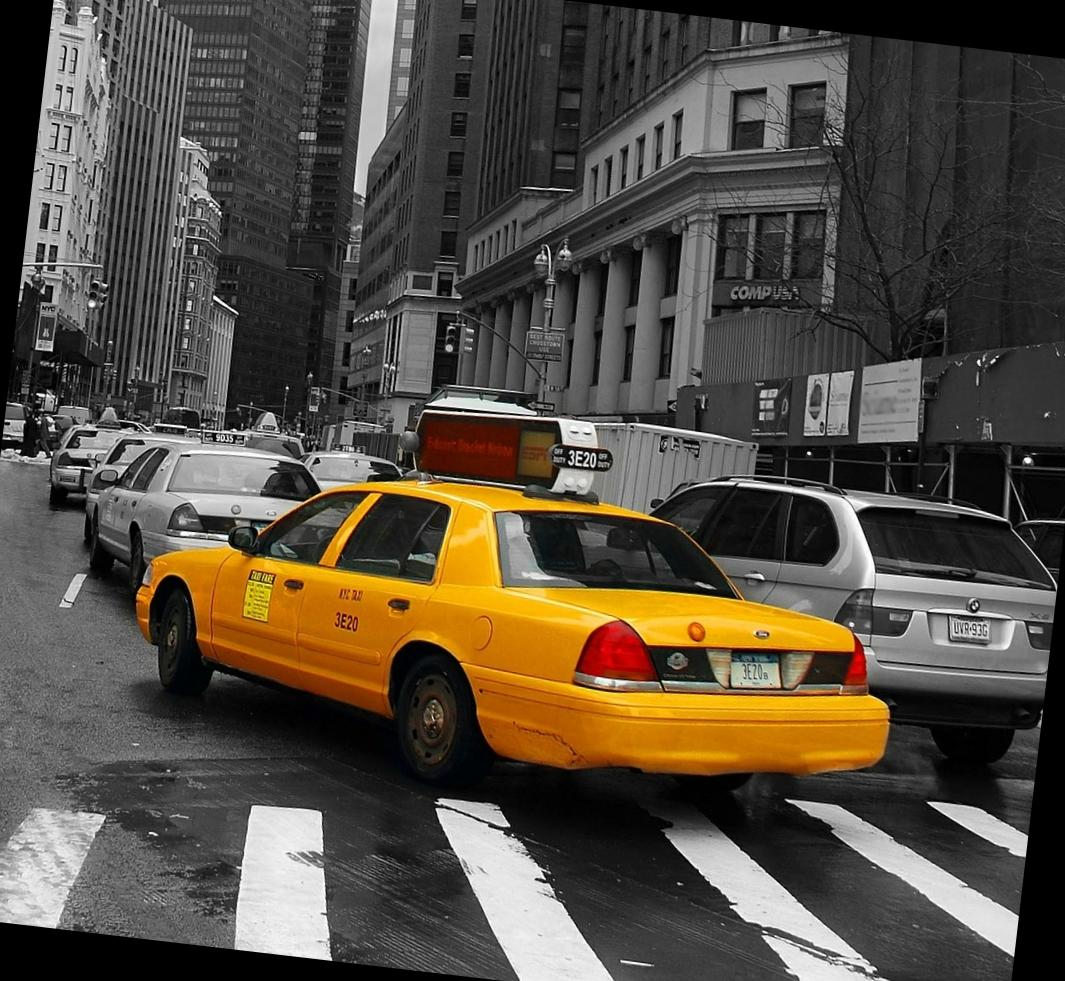taxi: (100, 456, 891, 807)
